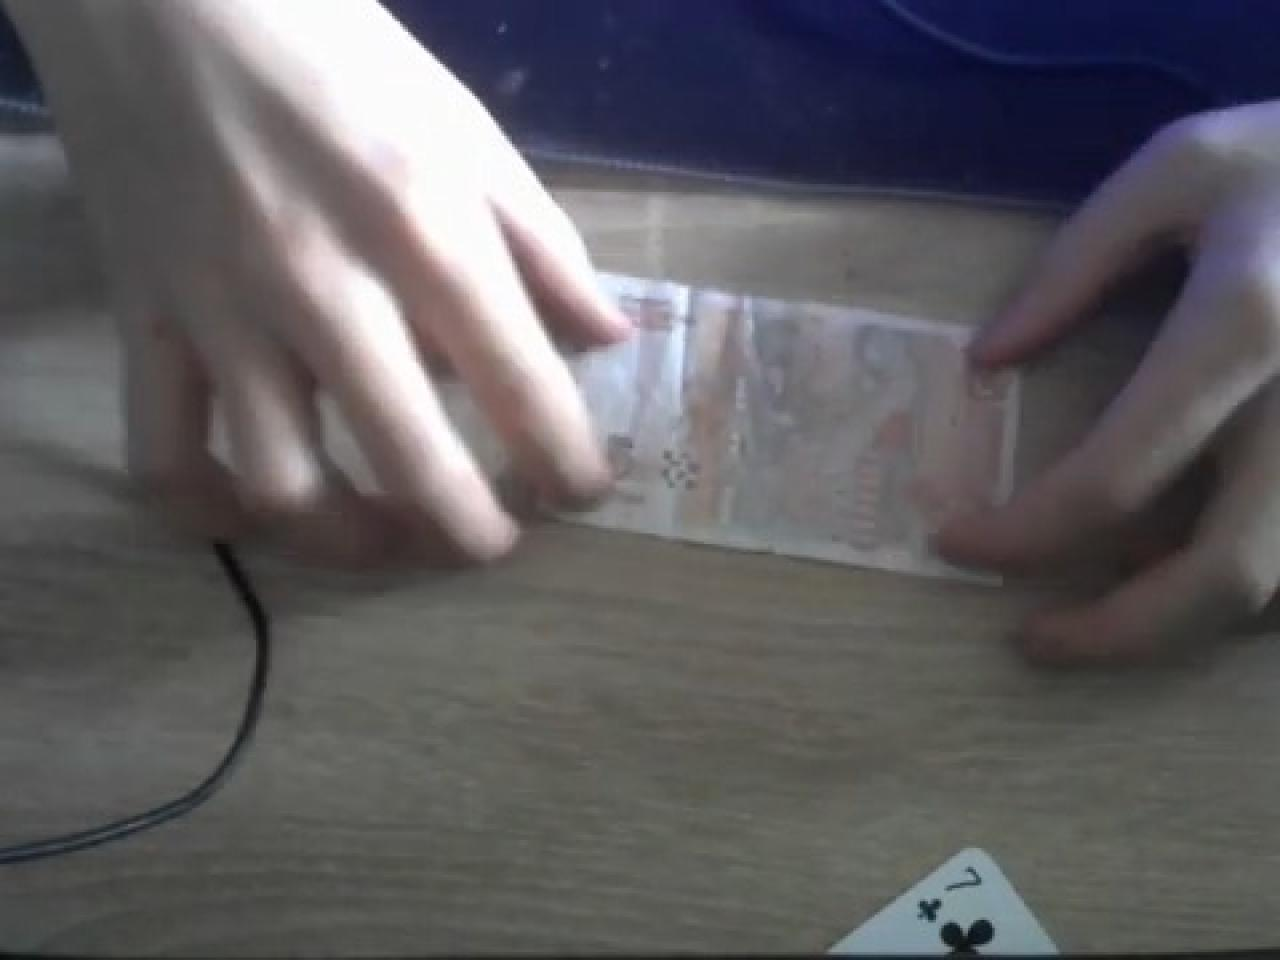5leva: (579, 274, 1029, 581)
